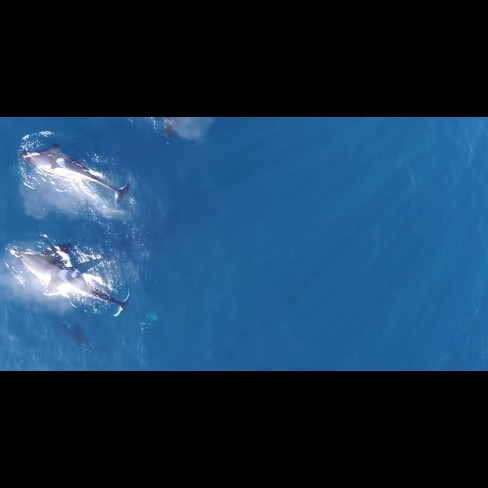orca: (2, 236, 133, 322), (13, 141, 153, 212)
